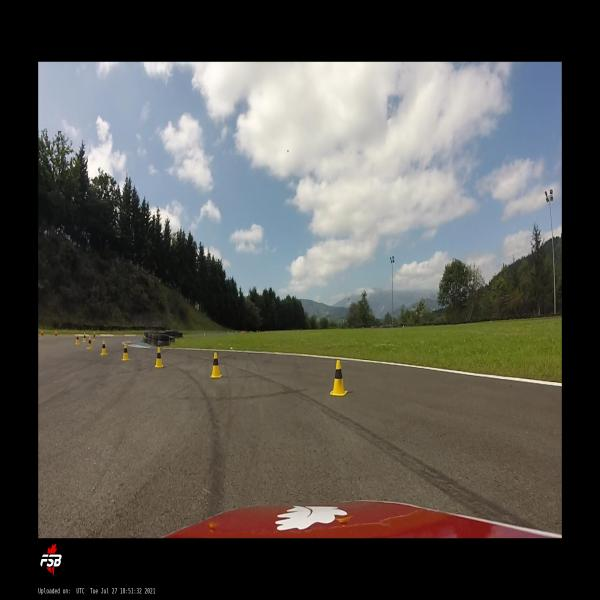orange_cone: (42, 330, 43, 336), (55, 332, 57, 335)
yellow_cone: (330, 360, 348, 396), (210, 352, 223, 378), (155, 347, 163, 368), (122, 344, 130, 361), (100, 340, 108, 356), (87, 336, 92, 350), (75, 334, 80, 345), (92, 332, 96, 341), (83, 332, 86, 342)
